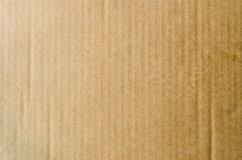Cardboard: (2, 3, 242, 160)
